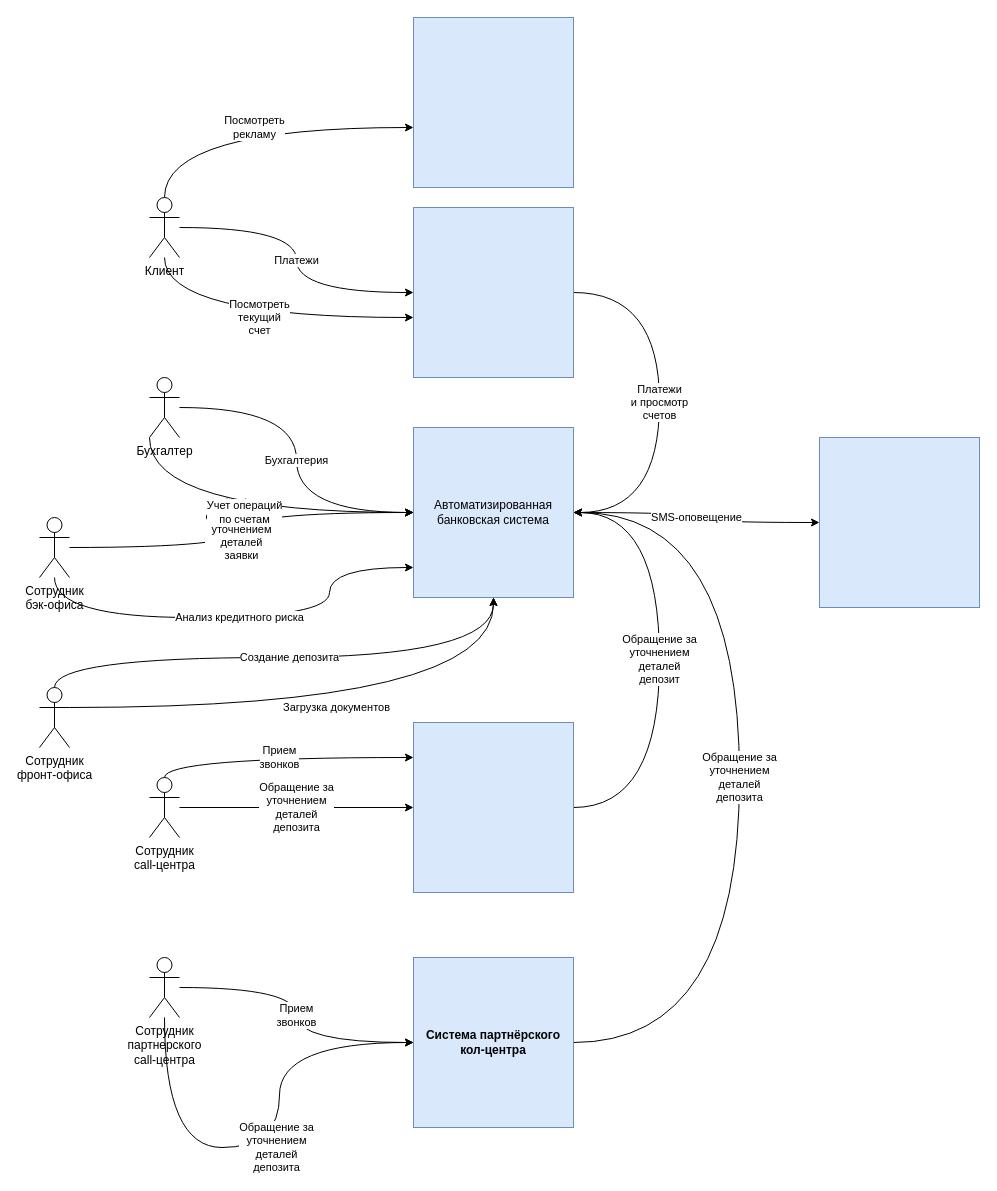
Image size: 997x1191. Some labels were removed from this diagram. Each missing label, with the centre of its shape:
"Интернет-банк" goes at pixel 493 292.
"Сайт" goes at pixel 493 102.
"Система кол-центра" goes at pixel 493 807.
"СМС-шлюз телеком-оператора" goes at pixel 899 522.
